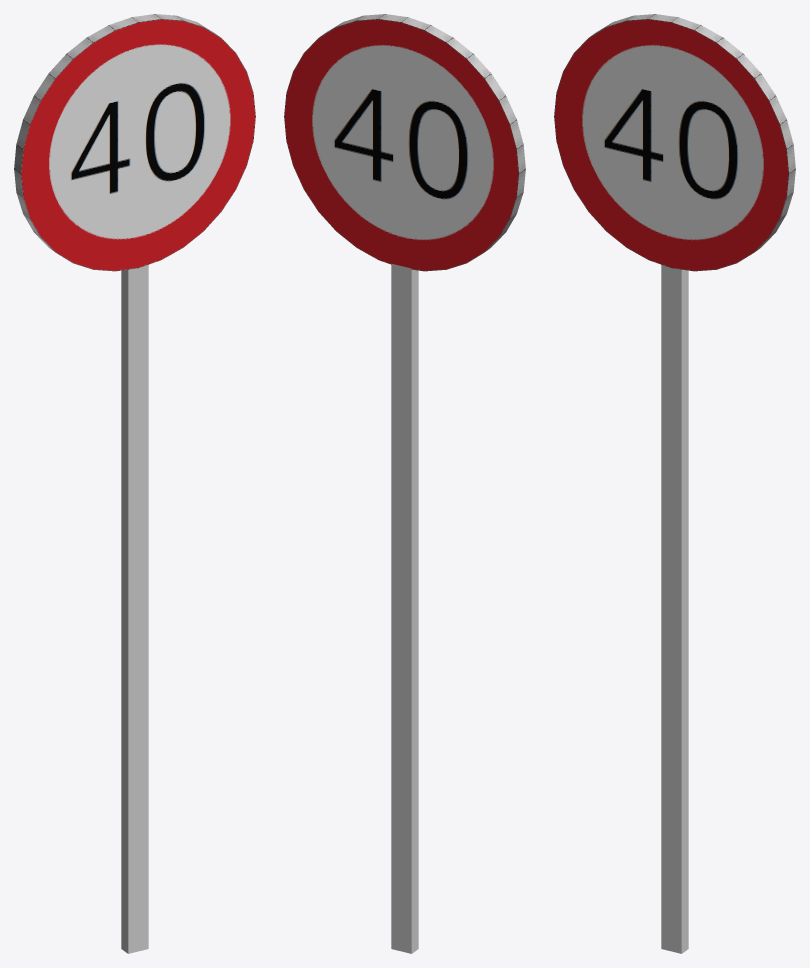
The model's file is speedlimit_40.fbx.
3 views of the same model, side by side, from view 1: azimuth 30°, elevation 25°; view 2: azimuth 150°, elevation 25°; view 3: azimuth 330°, elevation 25° (orthographic).
Parts seen in each view (by area): view 1: Cylinder, Cube; view 2: Cylinder, Cube; view 3: Cylinder, Cube.
Part boxes in pixels (box(x1,y1,x2,y2)): Cylinder: box(14, 14, 255, 271); Cube: box(121, 264, 148, 953); Cylinder: box(284, 14, 525, 271); Cube: box(391, 263, 418, 953); Cylinder: box(554, 14, 795, 271); Cube: box(661, 264, 688, 953).
Size of the model in its own units: 200 by 756 by 10.
